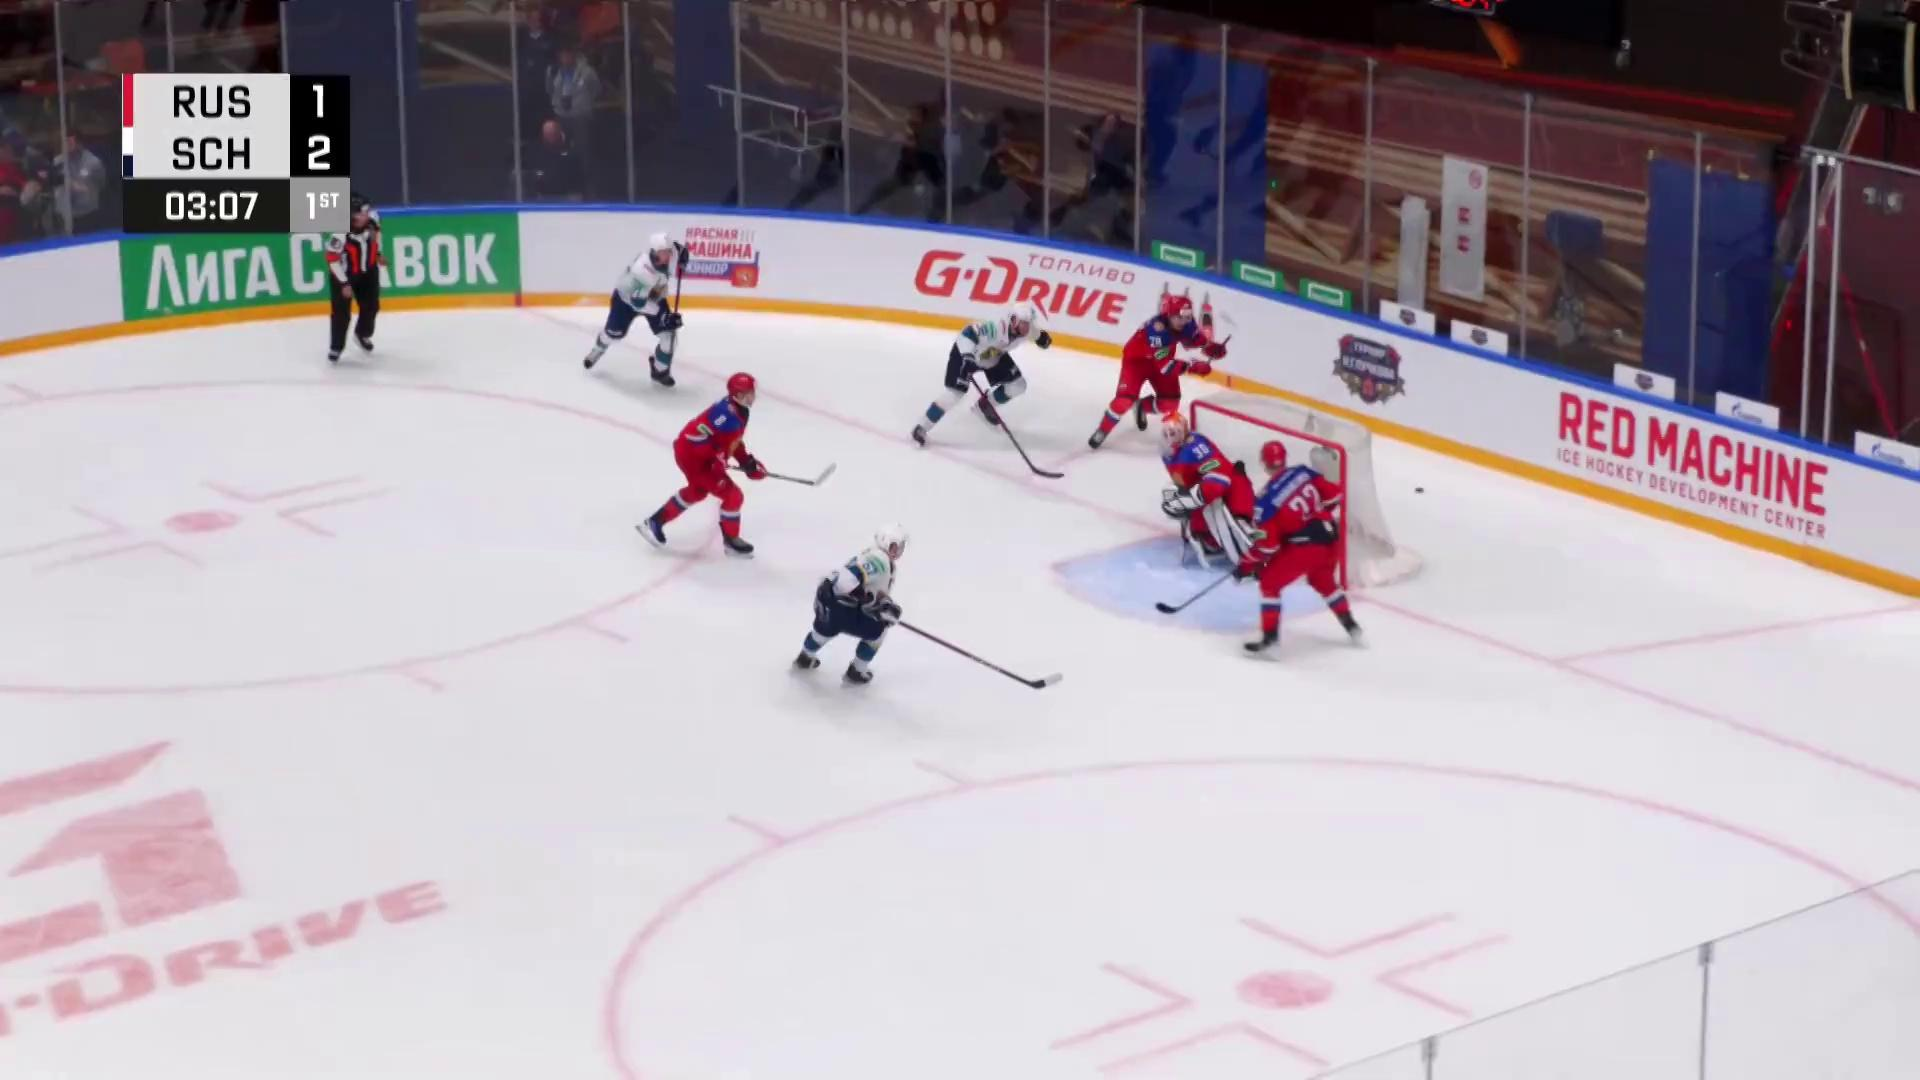ball: (1414, 487, 1425, 495)
